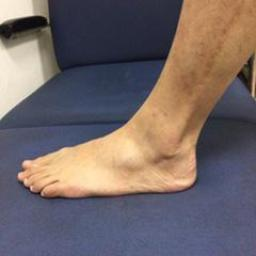Lateral View -Left Foot-: (12, 82, 222, 205)
